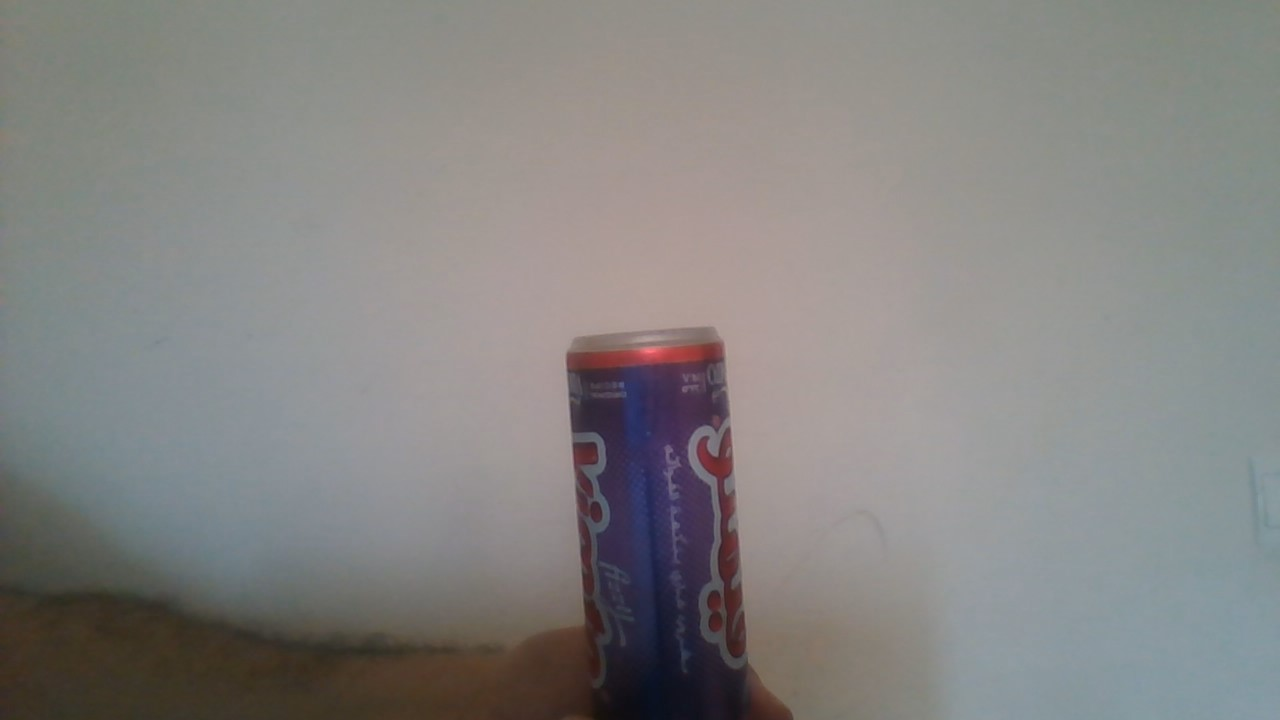can: (563, 321, 751, 720)
